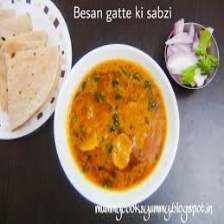sabzi: (64, 57, 170, 193)
